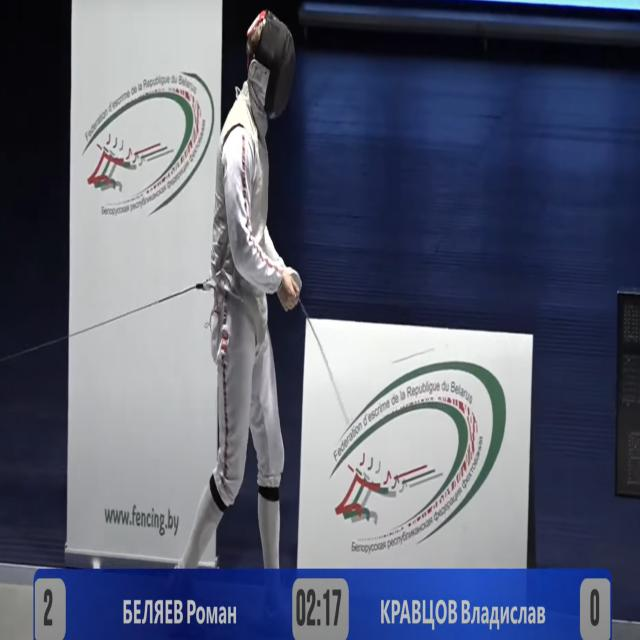fencer: (190, 13, 324, 566)
overlayLeft: (72, 567, 296, 640)
overlayRight: (344, 572, 575, 640)
scoreLeft: (35, 570, 69, 640)
scoreRight: (577, 570, 611, 640)
